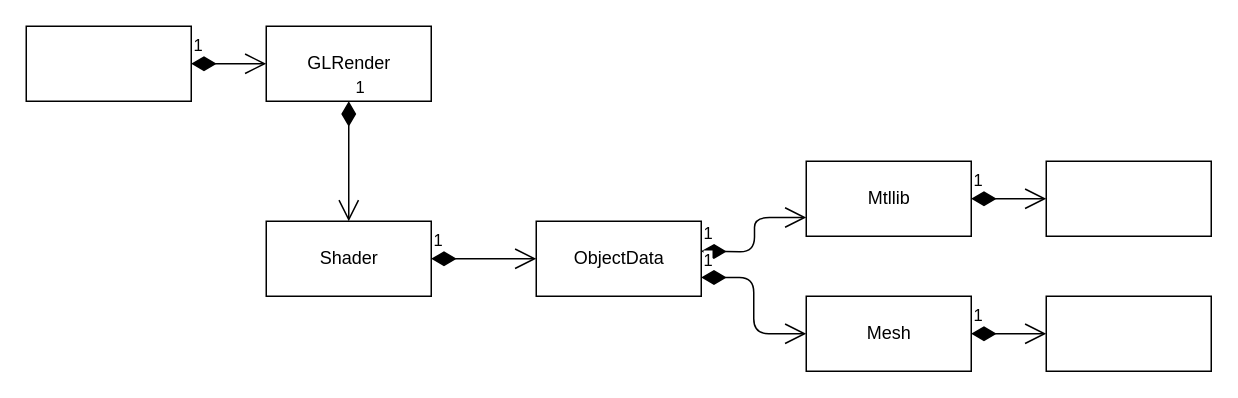
This 1238x398 diagram has some shape labels left out. The shapes that lost their labels are listed below. From the top down, each one's centre as x and y in pixels, then its label:
[108,63]: GLView
[1128,198]: Mtl
[1128,333]: Face
